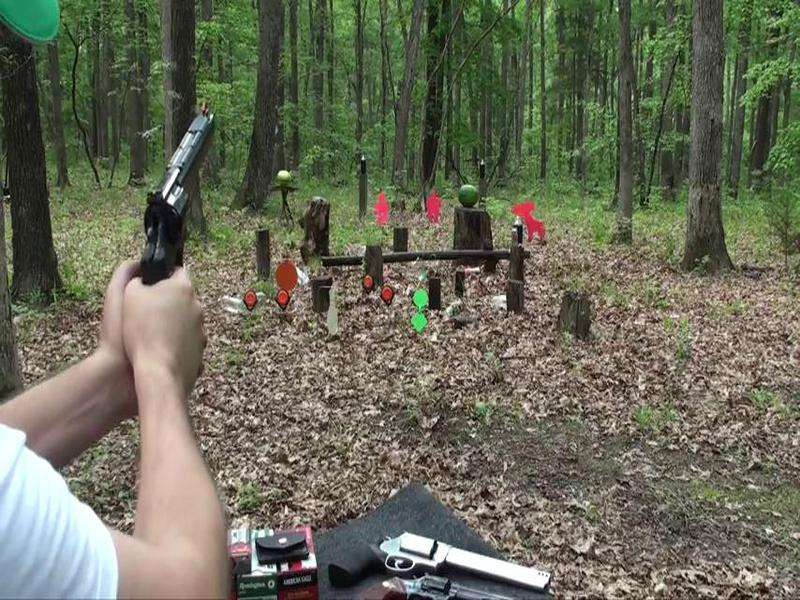Revolver: (121, 106, 225, 311)
